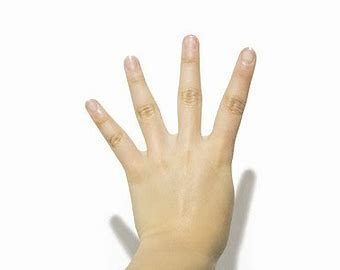right: (82, 34, 261, 256)
